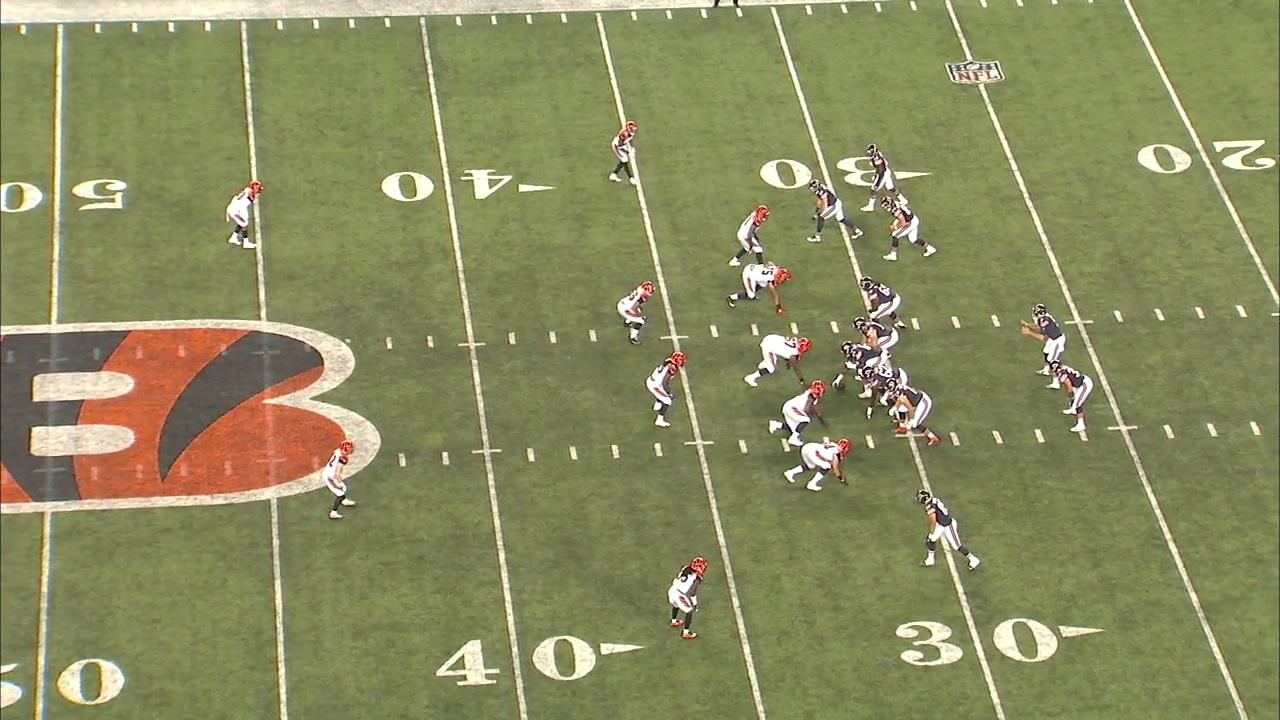player: (912, 489, 986, 576), (876, 195, 946, 263), (783, 436, 856, 498), (664, 552, 713, 643), (1019, 300, 1067, 392), (767, 376, 829, 446), (744, 330, 815, 390), (725, 258, 796, 315), (886, 379, 944, 448), (804, 178, 864, 244), (643, 346, 689, 431), (856, 141, 911, 212), (1045, 361, 1097, 436), (830, 340, 888, 397), (728, 198, 773, 270), (616, 276, 660, 349), (324, 435, 358, 525), (859, 362, 910, 421), (856, 274, 908, 331), (223, 179, 263, 253), (608, 115, 643, 187), (850, 315, 899, 359)
